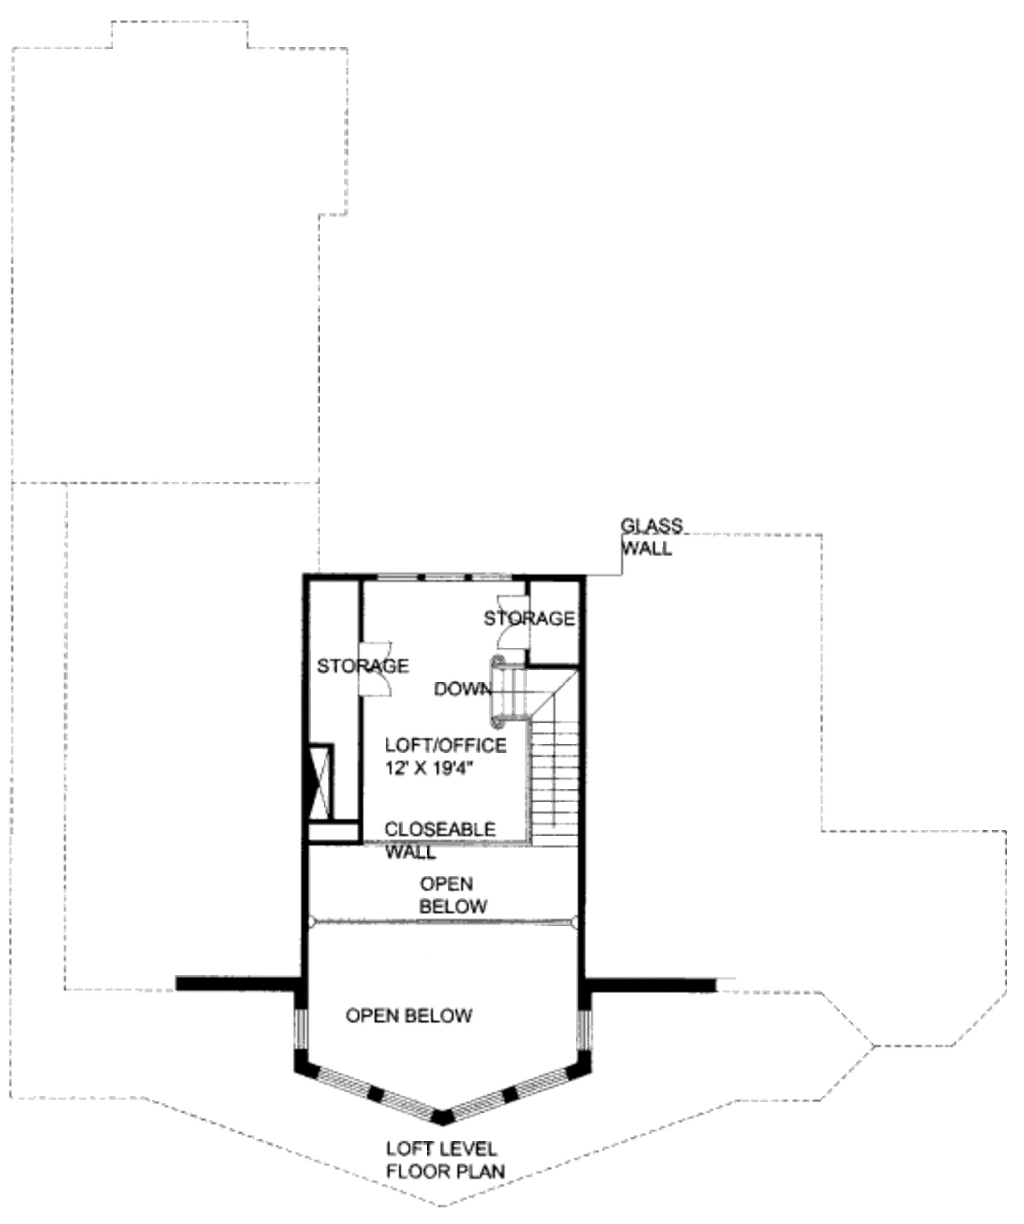door: (349, 639, 404, 710)
stairs: (468, 652, 581, 844)
windows: (436, 1009, 600, 1129), (297, 1008, 434, 1135), (370, 563, 514, 589)
